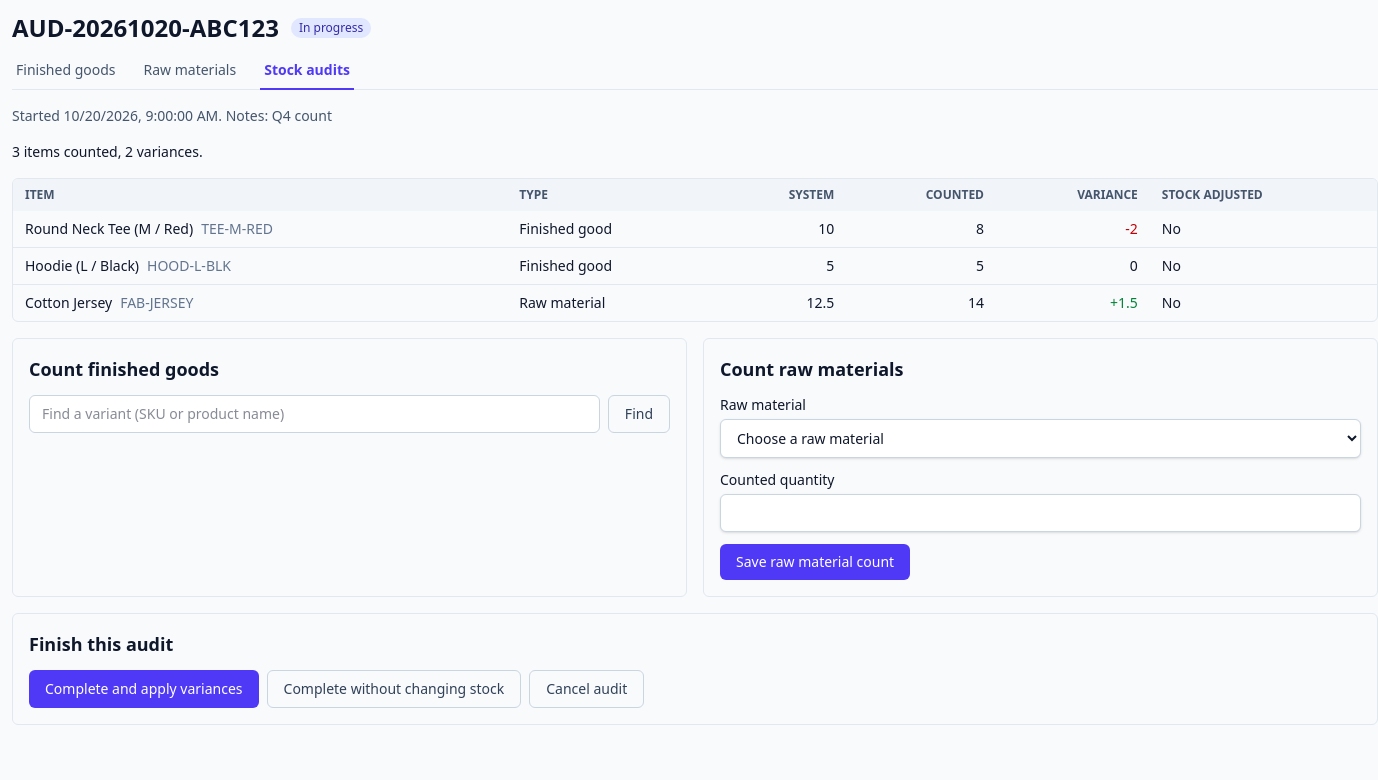
it: AuditDetailPage › can complete without touching stock
Click the button "Complete without changing stock". click: (394, 689)
box: top-left (266, 670), bottom-right (521, 708)
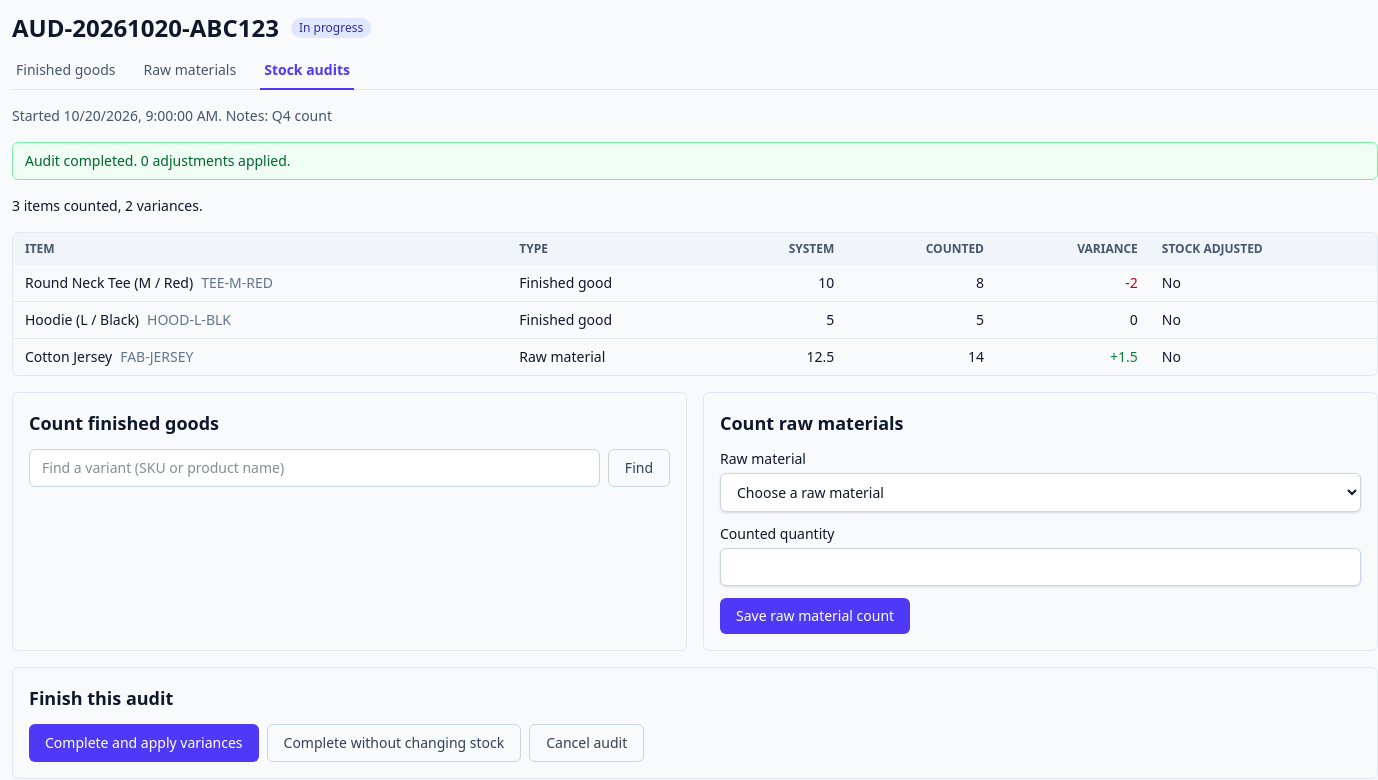
Now the text "Audit completed. 0 adjustments applied." is shown, box top-left (12, 142), bottom-right (1377, 180)
